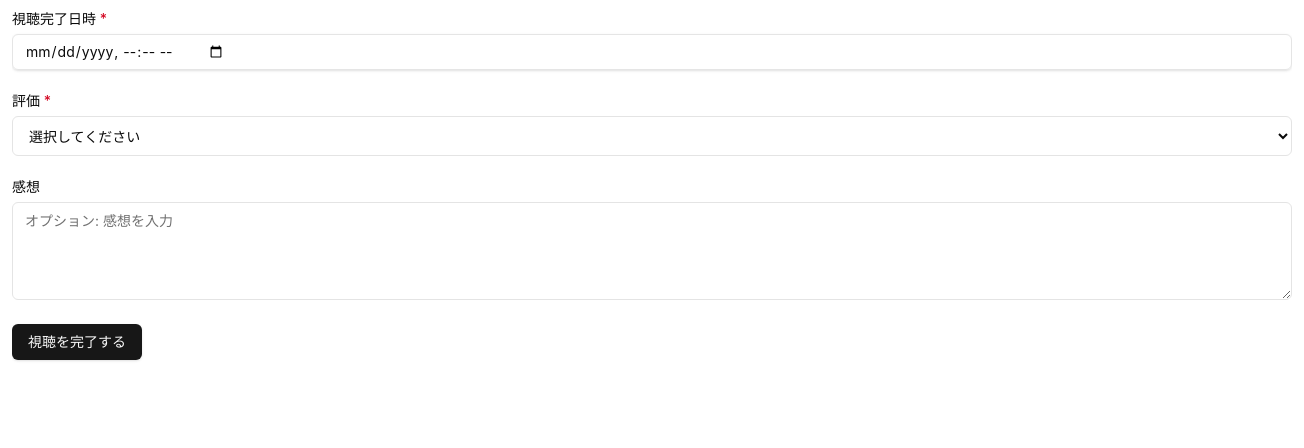
Test: CompleteEpisodeForm › error handling › should display error message when submission fails
The width and height of the screenshot is (1304, 448).
In the field labelled "視聴完了日時 *": (652, 52) [12,34,1292,70], type "2025-01-15T20:00"
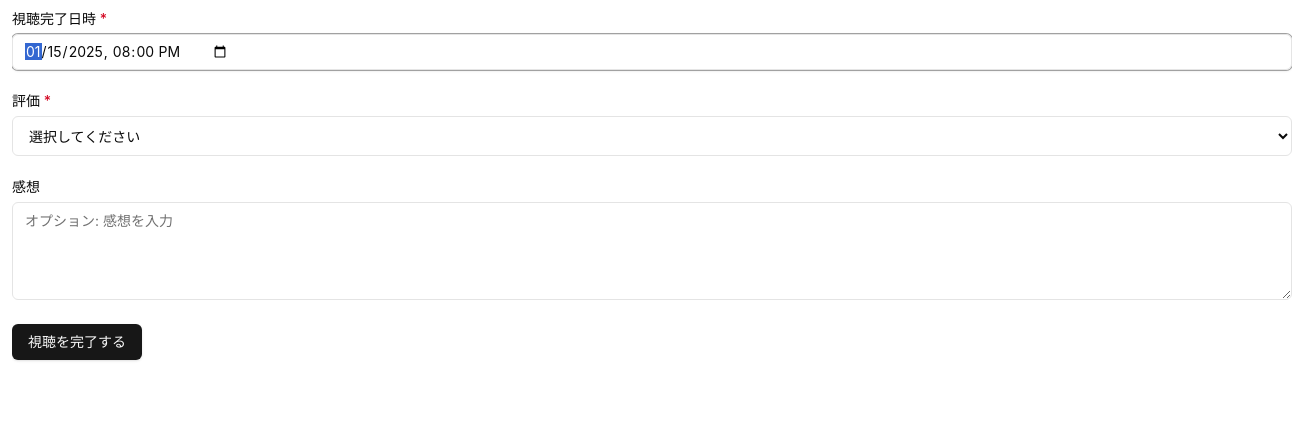
Select "4" in the dropdown labelled "評価 *": (652, 136) [12,116,1292,156]
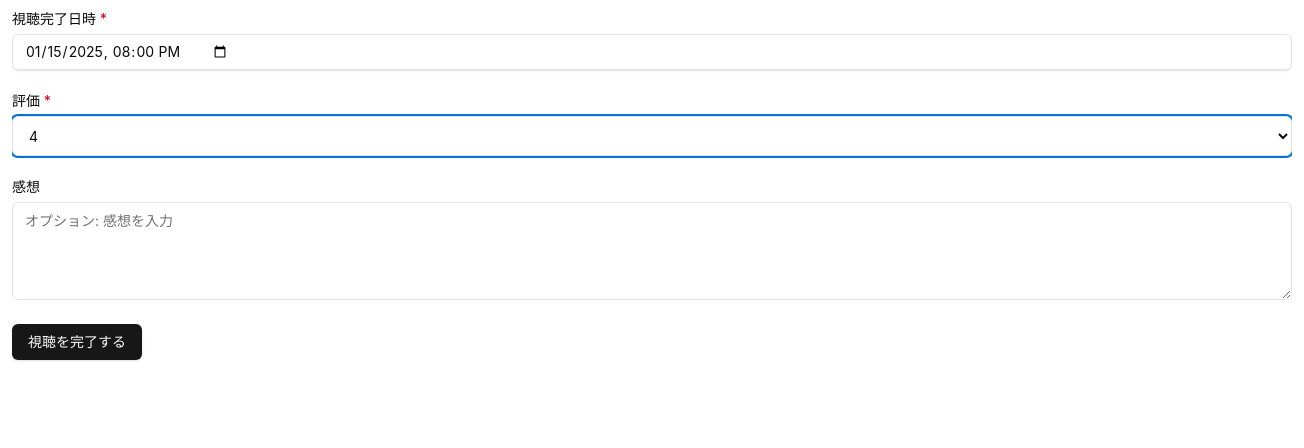
Click the button "視聴を完了する": (77, 342) [12,324,142,360]
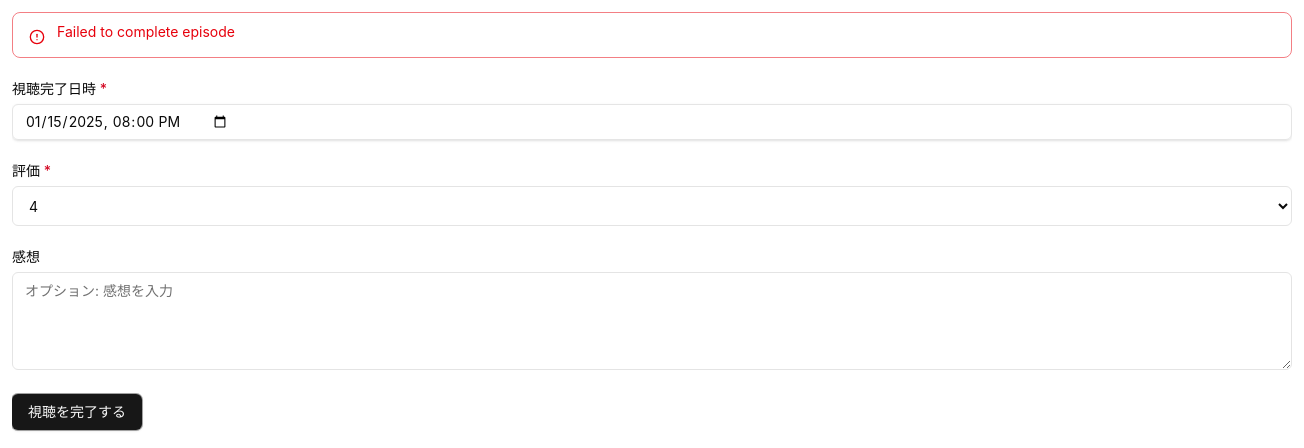
Check: the text "Failed to complete episode" is shown, box [57,23,235,40]
